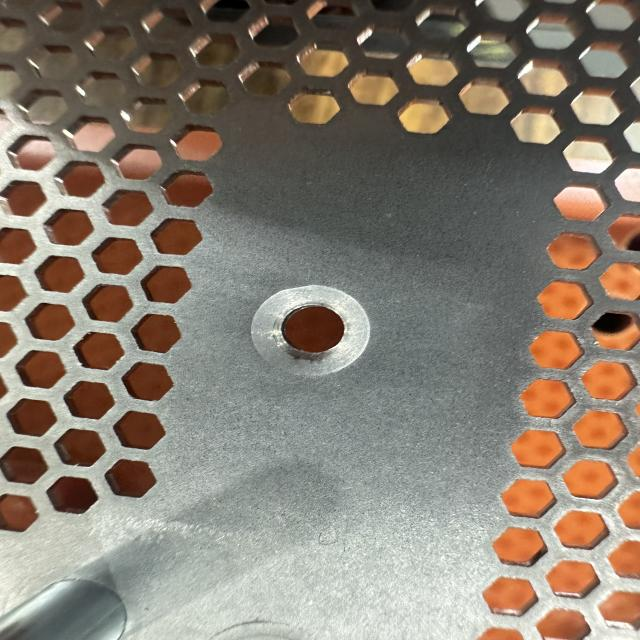Missing screw: (235, 272, 382, 384)
